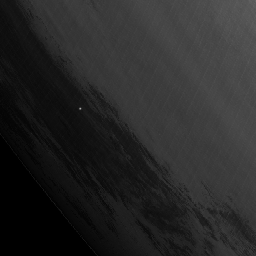Target: (77, 105, 84, 111)
